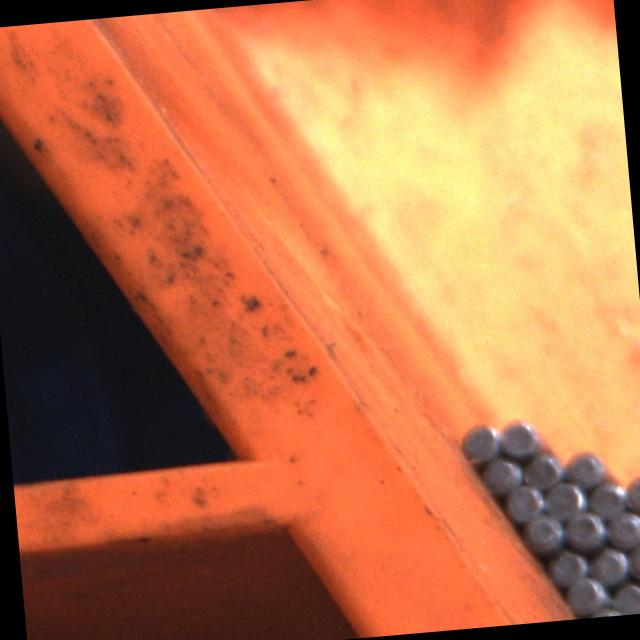tool: (562, 508, 604, 552), (523, 511, 565, 554), (544, 476, 587, 518), (564, 573, 608, 614), (458, 421, 499, 462), (546, 546, 588, 586), (584, 480, 626, 520), (588, 544, 628, 585), (502, 481, 542, 522), (481, 454, 521, 494), (565, 448, 605, 488), (522, 449, 562, 489), (498, 418, 537, 458), (604, 506, 640, 548), (608, 577, 640, 615), (620, 470, 640, 511), (625, 538, 640, 581)
